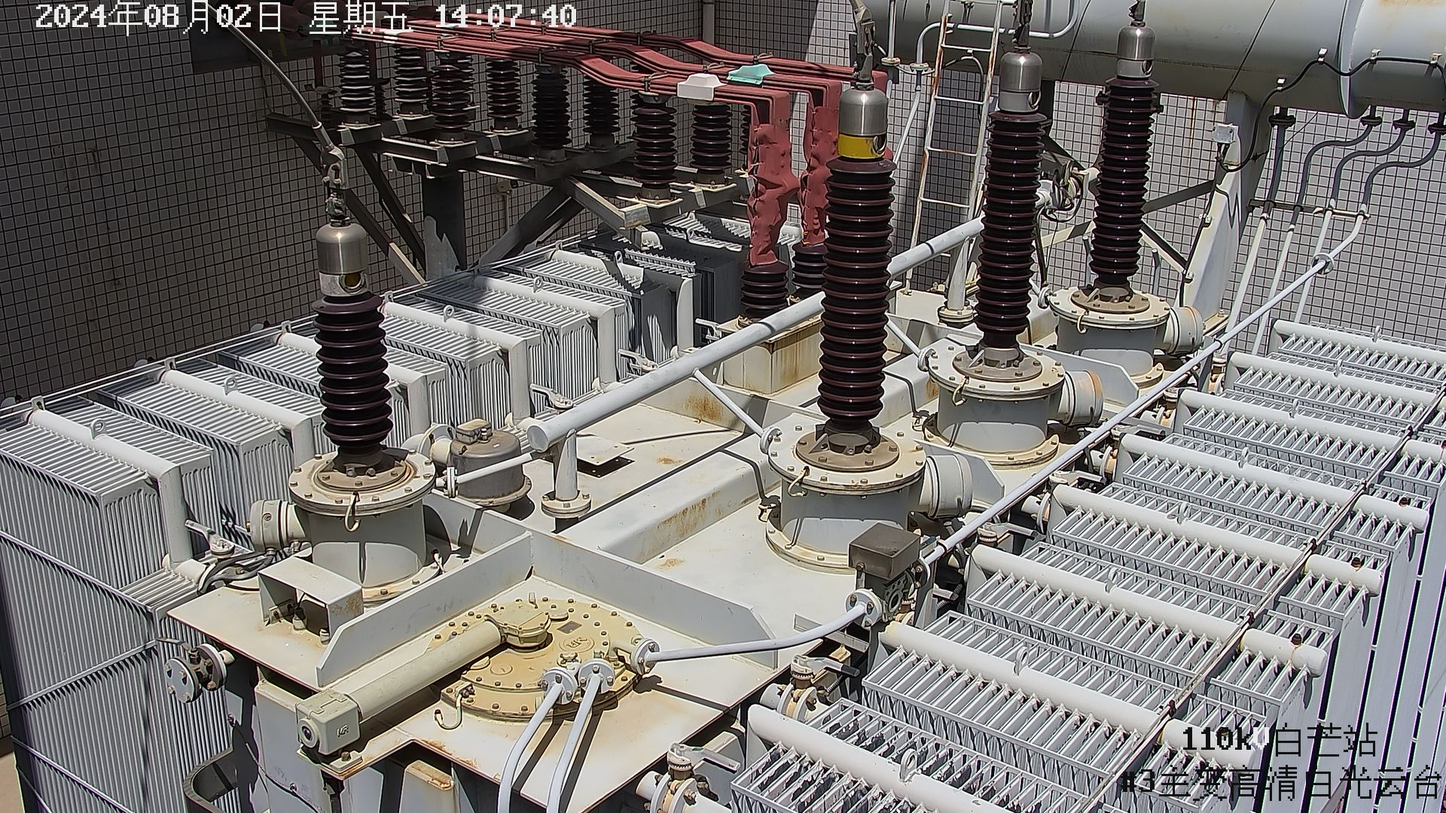HTX: (462, 680, 691, 760), (251, 579, 407, 653), (334, 735, 503, 793), (627, 487, 723, 573), (739, 314, 822, 398), (303, 449, 418, 504), (1368, 1, 1445, 44), (841, 467, 924, 495), (681, 378, 728, 425), (929, 10, 949, 99), (911, 148, 929, 244), (984, 0, 1002, 92), (736, 477, 782, 508), (1014, 312, 1045, 346), (1082, 364, 1103, 400), (923, 370, 942, 404), (644, 454, 682, 470), (732, 455, 766, 470), (1180, 303, 1200, 318), (938, 146, 966, 155), (553, 531, 569, 540), (906, 448, 917, 454)
